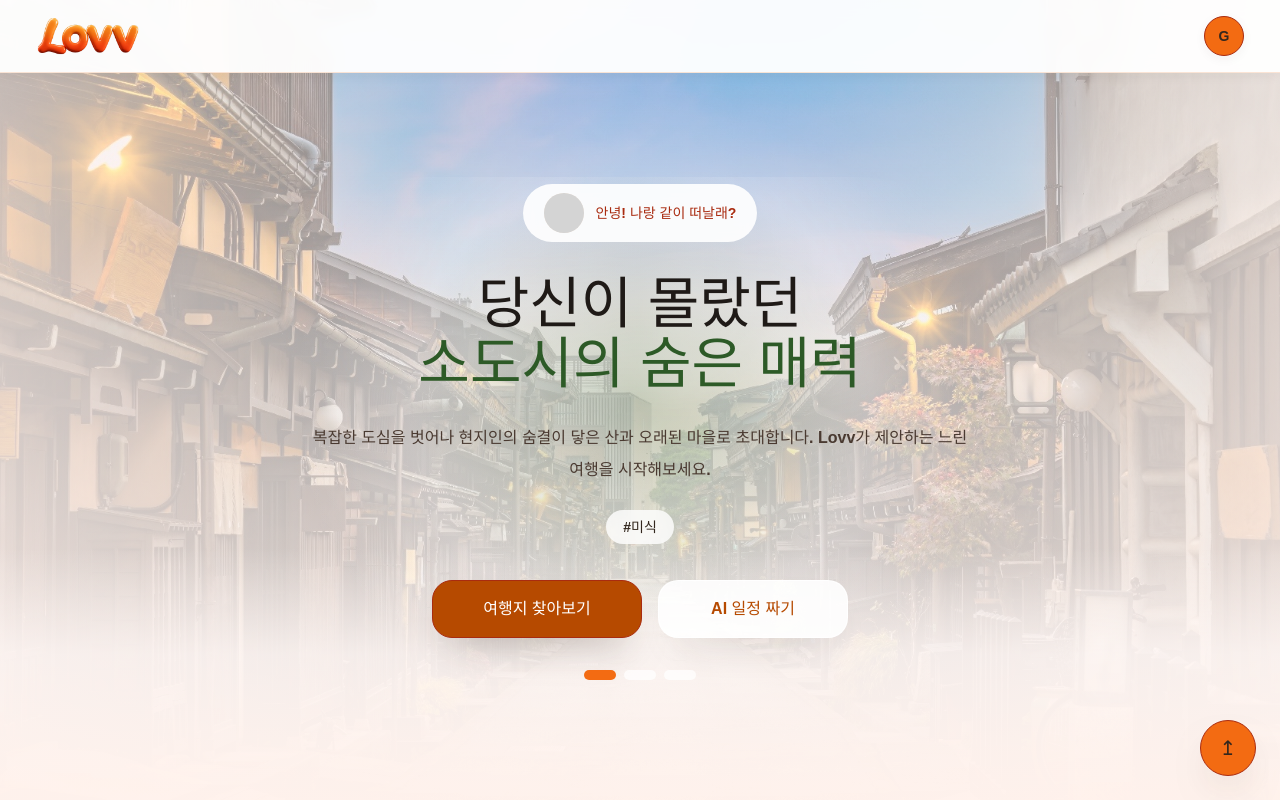
it: MVP main entry screen › asks whether to include festivals when the chat starts
Click the link "AI 일정 짜기" at (753, 610), box x1=658 y1=580 x2=848 y2=638
(page scrolled)
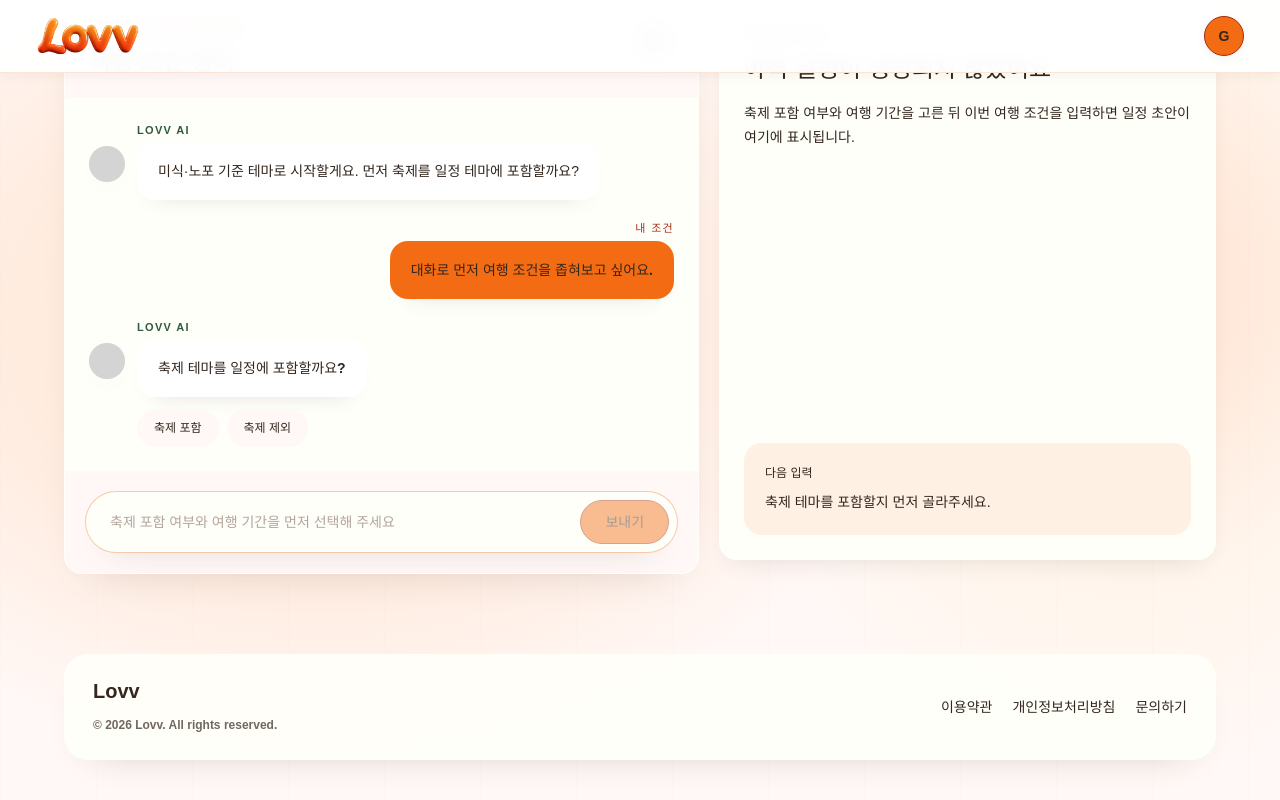
Expected: the text "축제 테마를 일정에 포함할까요?" is shown, x1=137 y1=339 x2=367 y2=397
Expected: the button "축제 포함" is shown
Expected: the button "축제 제외" is shown, x1=226 y1=409 x2=308 y2=447
Click the button "축제 포함" at (178, 428), box x1=137 y1=409 x2=218 y2=447
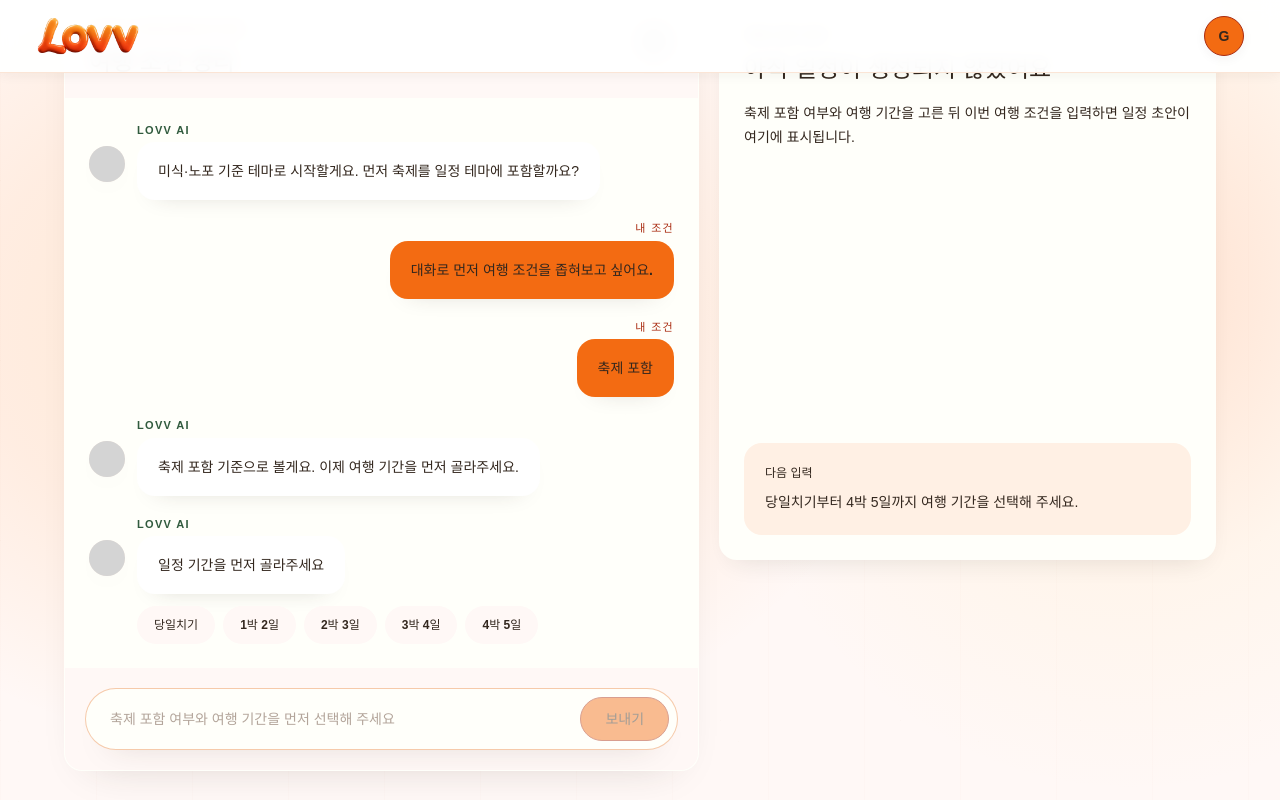
Expected: the text "축제 포함" is shown, x1=577 y1=339 x2=674 y2=397
Expected: the text "축제 테마를 일정에 포함할까요?" is gone
Expected: the text "일정 기간을 먼저 골라주세요" is shown, x1=137 y1=536 x2=345 y2=594
Click the button "1박 2일" at (260, 625), box x1=223 y1=606 x2=296 y2=644
(page scrolled)
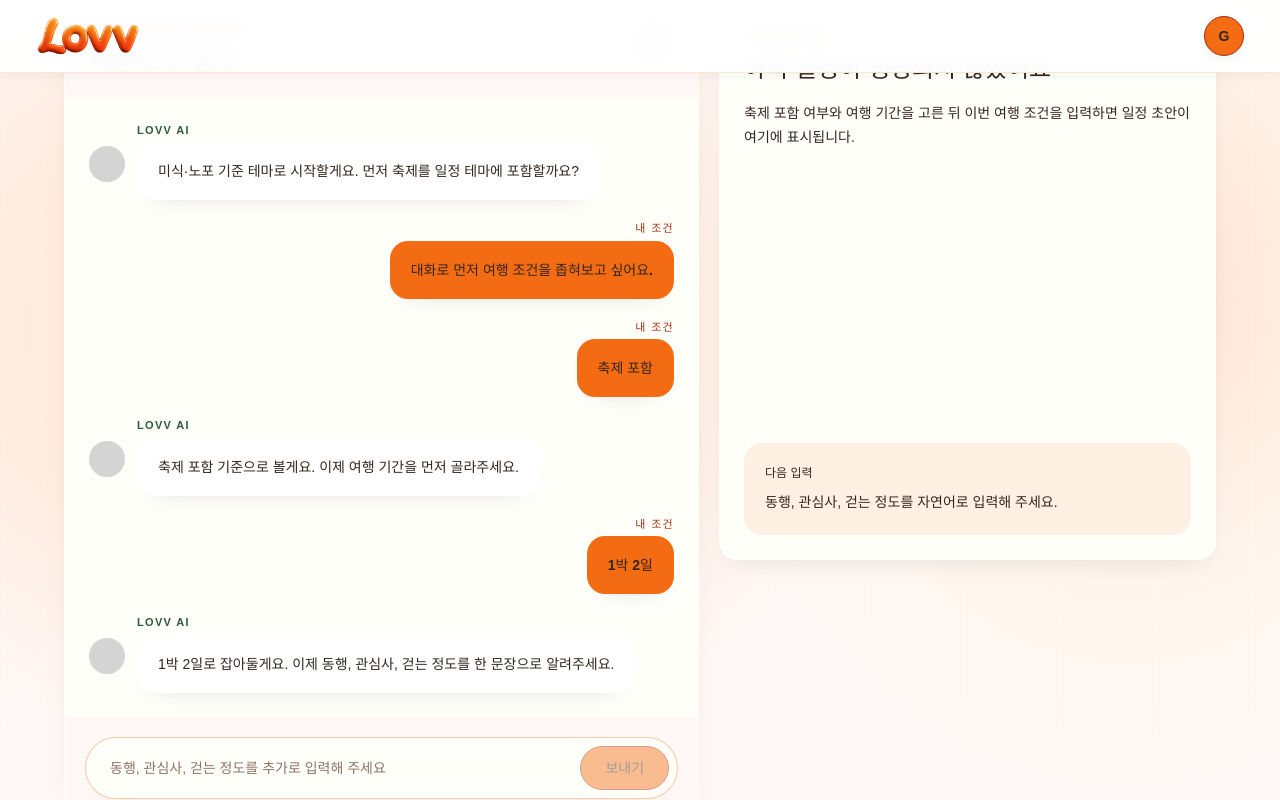
Expected: the text "일정 기간을 먼저 골라주세요" is gone
Expected: the field named "여행 조건 입력" is enabled
Expected: the text "동행, 관심사, 걷는 정도를 자연어로 입력해 주세요." is shown, x1=765 y1=494 x2=1058 y2=510
Type "시장과 노포 중심으로 덜 걷고 싶어요" into the field named "여행 조건 입력" at (331, 768), box x1=94 y1=746 x2=568 y2=790
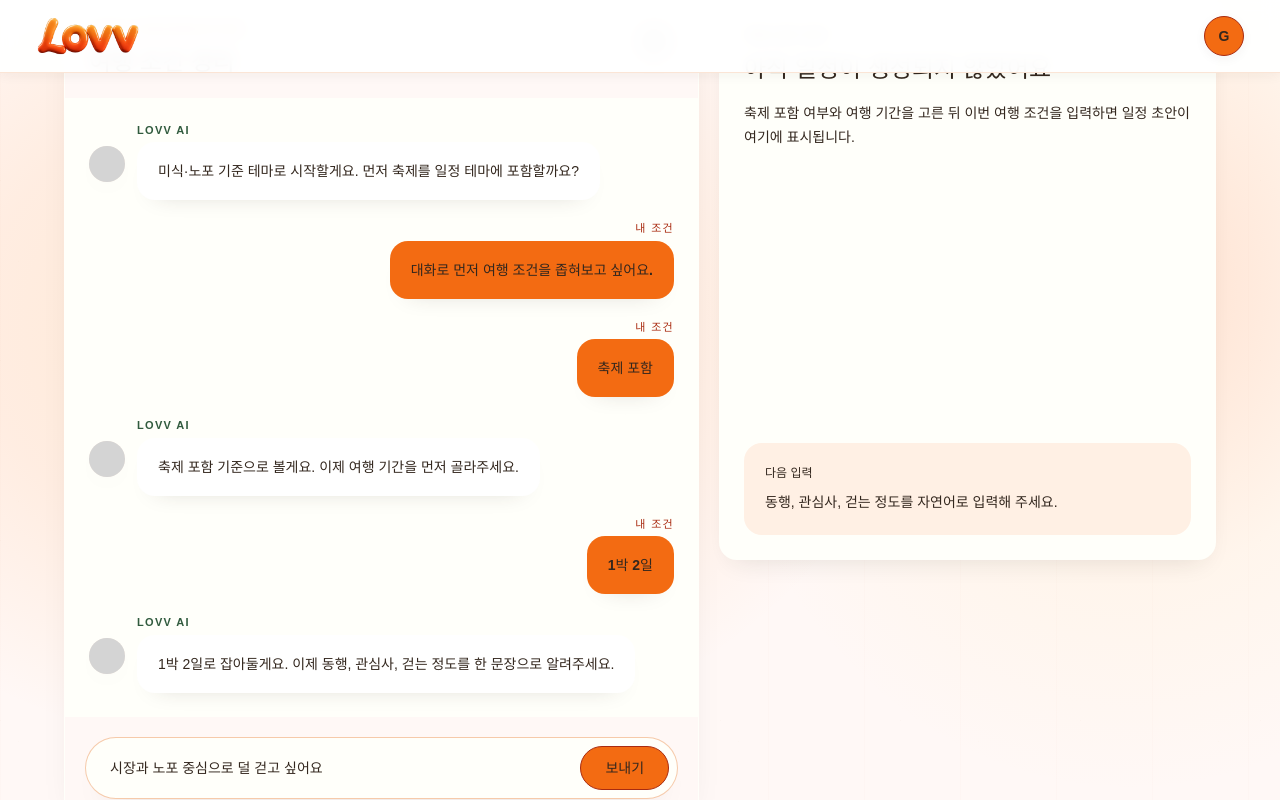
Click the button with aria-label "메시지 보내기" at (625, 768), box x1=580 y1=746 x2=669 y2=790
(page scrolled)
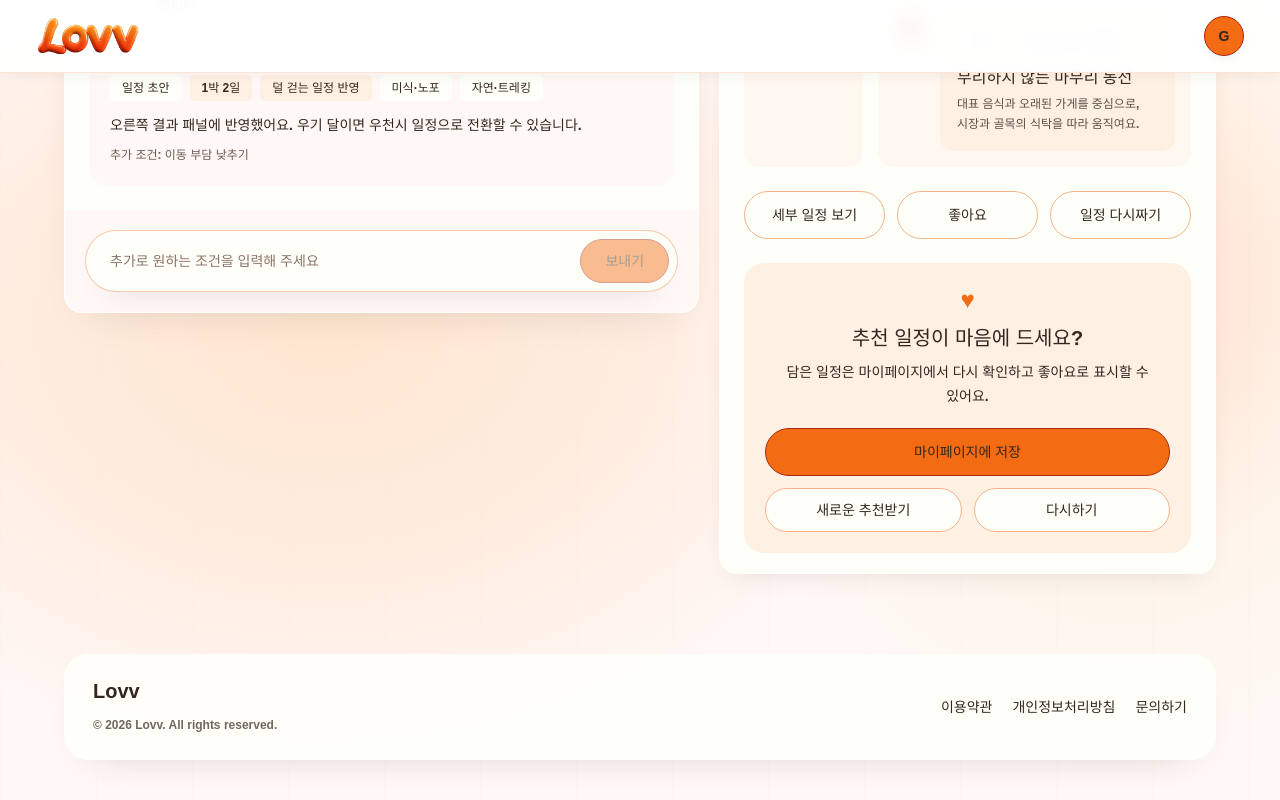
Expected: the element named "조건 해석 결과" shows "미식·노포", x1=392 y1=80 x2=440 y2=94
Expected: the button "일정 다시짜기" is shown, x1=1050 y1=191 x2=1191 y2=239
Expected: the button "마이페이지에 저장" is shown, x1=765 y1=428 x2=1170 y2=476
